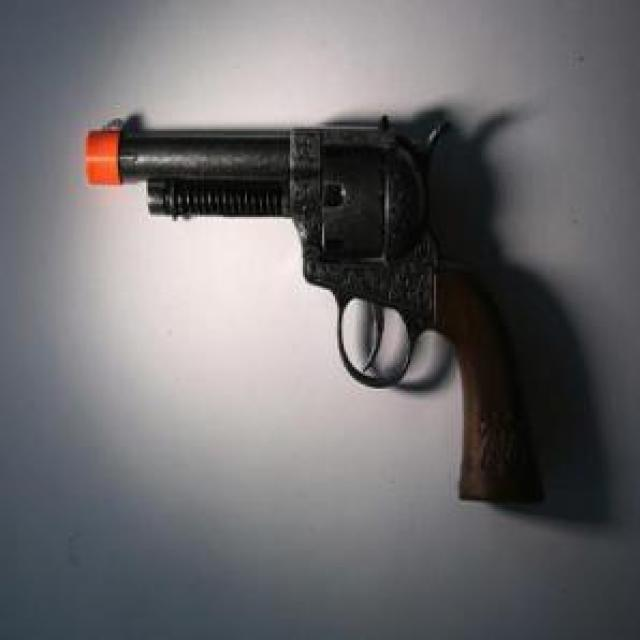pistol: (86, 114, 545, 506)
